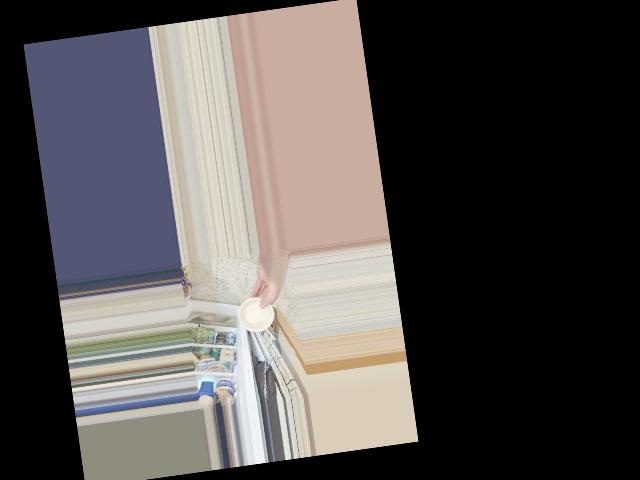cotage: (238, 299, 274, 334)
